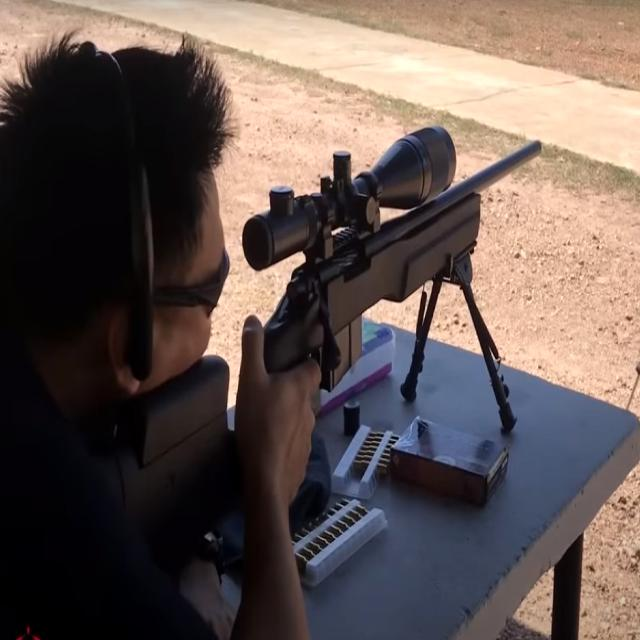rifle: (102, 100, 546, 580)
